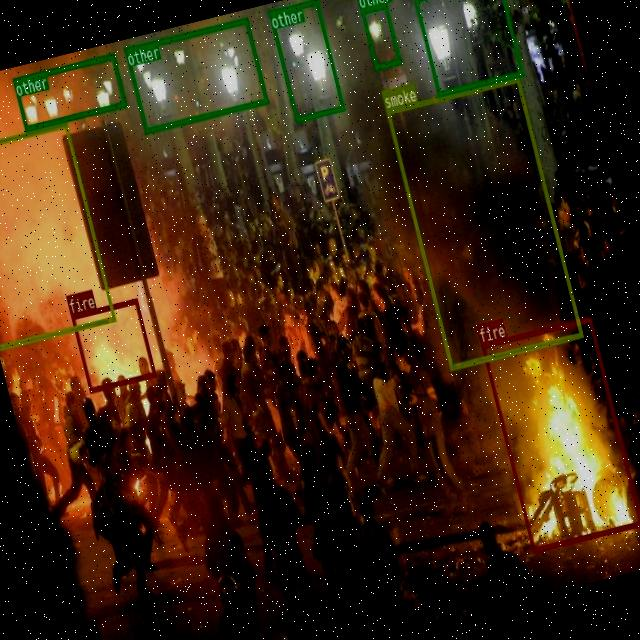fire: (479, 315, 640, 551), (69, 298, 156, 392)
smoke: (384, 75, 582, 369), (0, 121, 116, 349)
